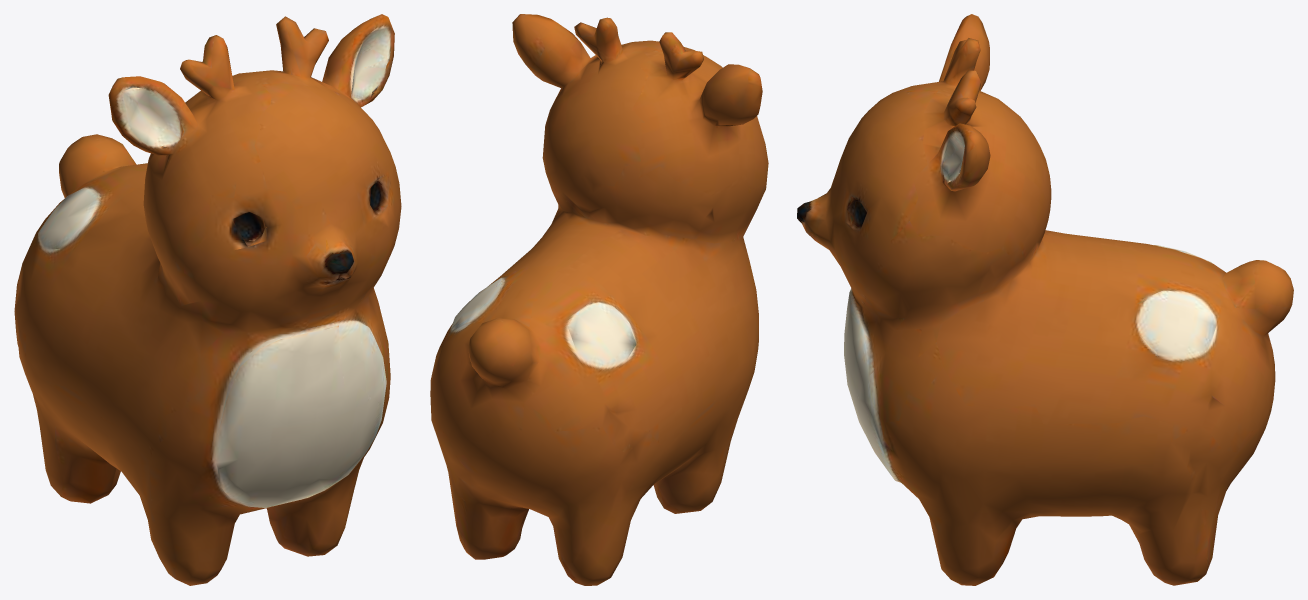
The model's file is deer.glb.
The picture shows the model from 3 angles, left to right: view 1: azimuth 30°, elevation 25°; view 2: azimuth 150°, elevation 25°; view 3: azimuth 270°, elevation 25°; orthographic projection. The views are drawn at different scales.
Parts seen in each view (by area): view 1: prop; view 2: prop; view 3: prop.
Part boxes in pixels (x1,y1,x2,y2): prop: (14,14,401,585); prop: (430,14,768,585); prop: (797,14,1293,585).
Size of the model in its own units: 0.5404 by 0.98 by 0.885.
1 material, 1 textured.
